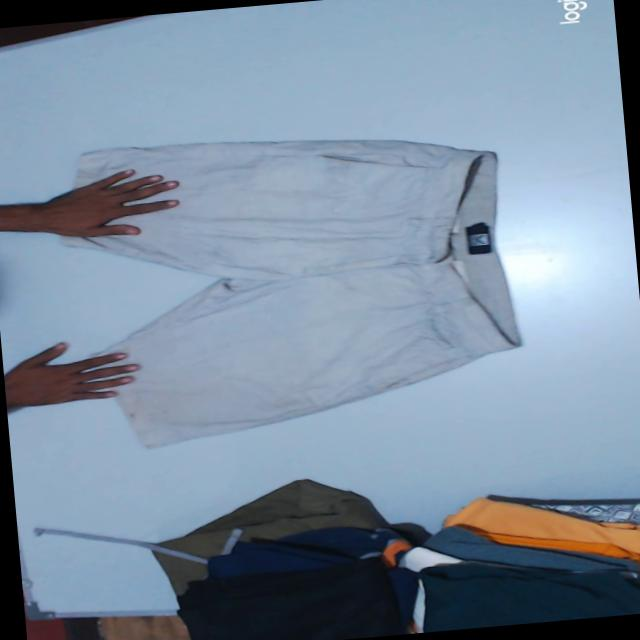new-garment: (62, 139, 518, 446)
